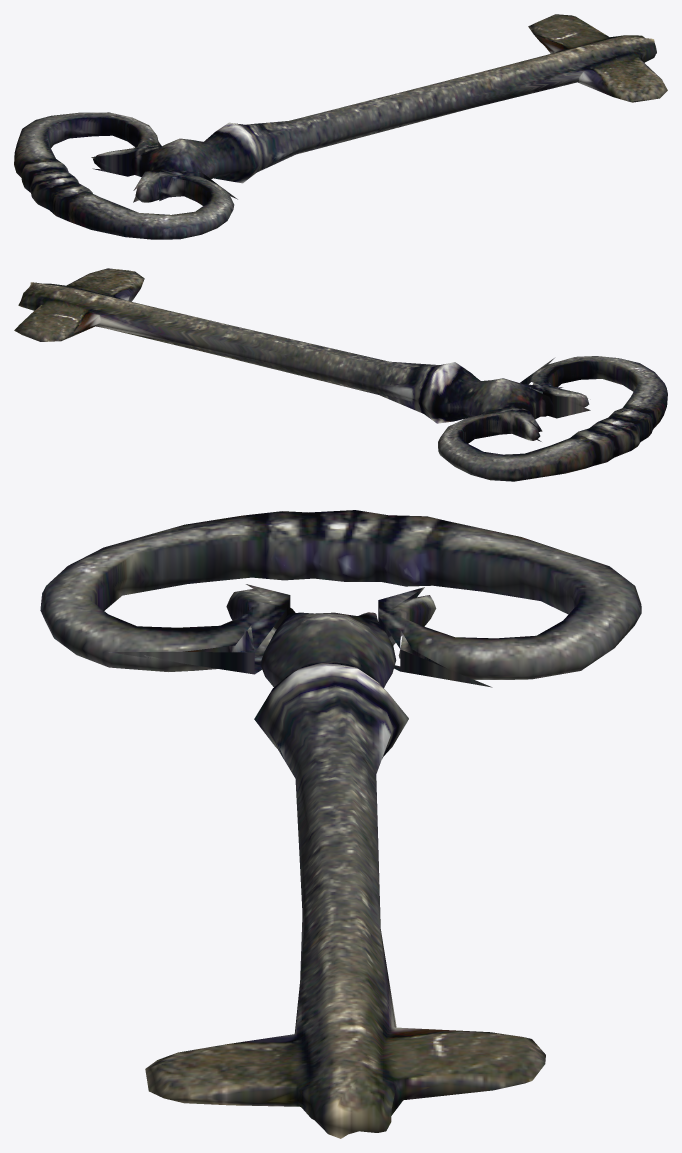
File: Key1H.fbx
3 views of the same model, one above another, from view 1: azimuth 30°, elevation 25°; view 2: azimuth 150°, elevation 25°; view 3: azimuth 270°, elevation 25° (orthographic). The views are drawn at different scales.
Parts seen in each view (by area): view 1: key2; view 2: key2; view 3: key2.
Boxes of the visible parts, left/top/right/bottom form: key2: left=14, top=14, right=667, bottom=239; key2: left=14, top=268, right=667, bottom=481; key2: left=40, top=510, right=641, bottom=1138.
Bounding box in the file's own units: 4.16 × 0.3487 × 1.77.
Materials: 1 (1 with a texture image).
